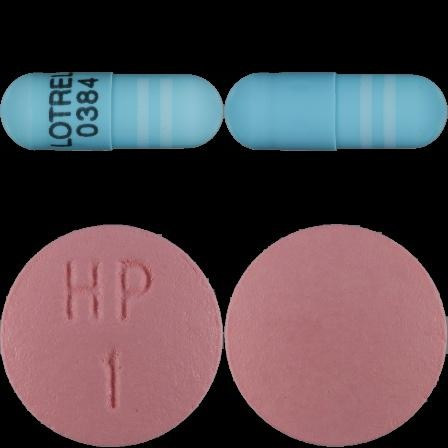54868-5783: (0, 0, 224, 224)
